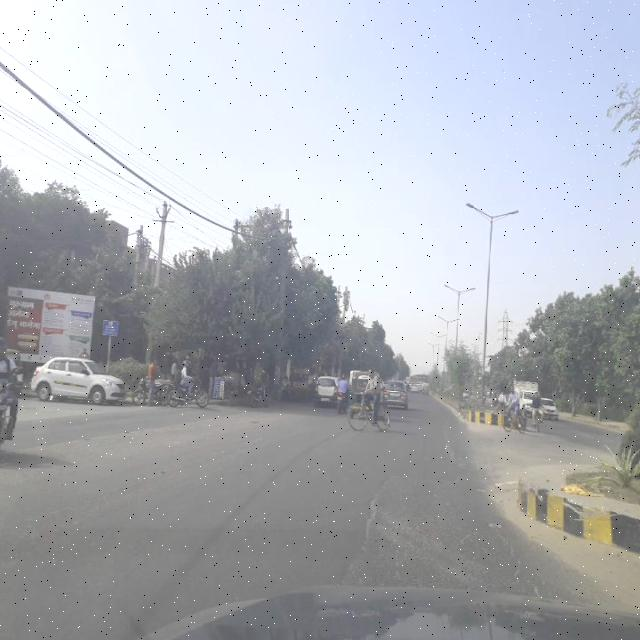D00: (482, 506, 537, 591), (353, 461, 391, 575)
